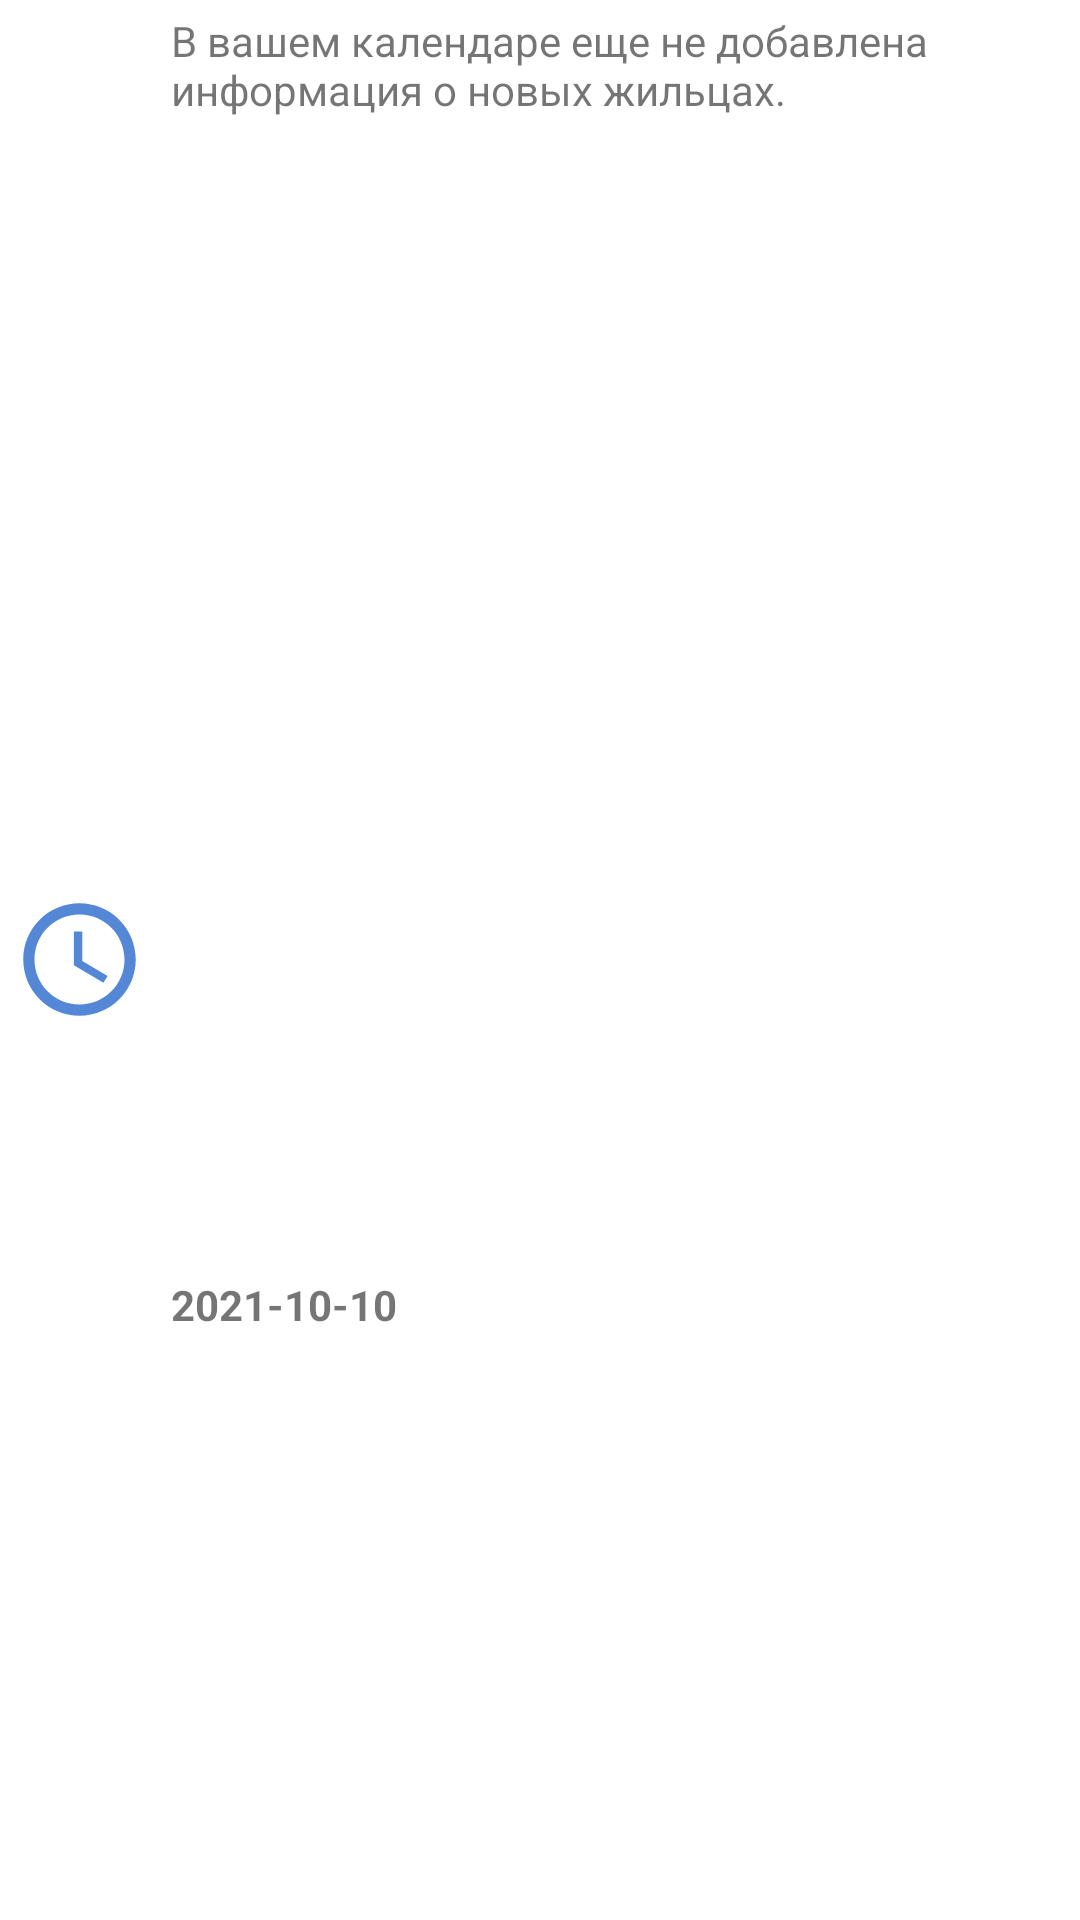

Screen size 1080*1920. Icon name, then its center in pixels as point (x, y):
access time: point (79, 959)
